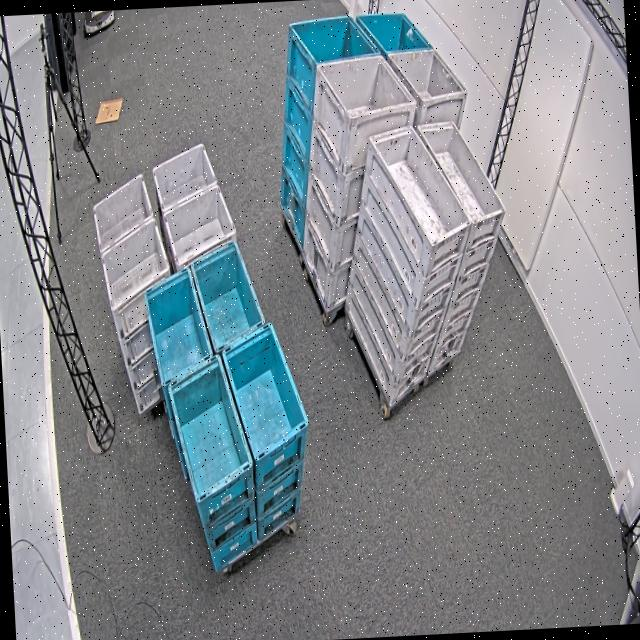Roll3G: (368, 120, 472, 252), (416, 117, 508, 228)
Roll4G: (315, 51, 419, 121), (386, 47, 468, 105)
Roll8G: (90, 170, 174, 314), (150, 138, 238, 268)
RollB4: (288, 15, 382, 68), (355, 8, 435, 58)
RollB8: (164, 316, 314, 504), (141, 238, 269, 391)
